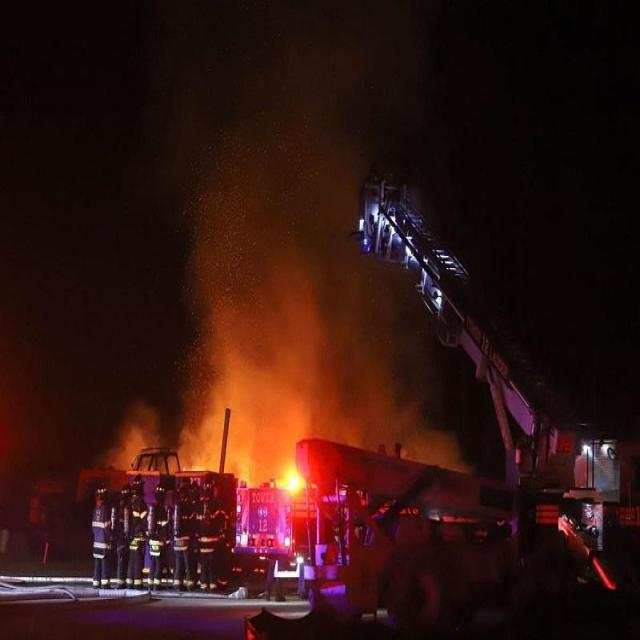Fire: (266, 456, 306, 494), (178, 441, 217, 472), (230, 449, 260, 487)
